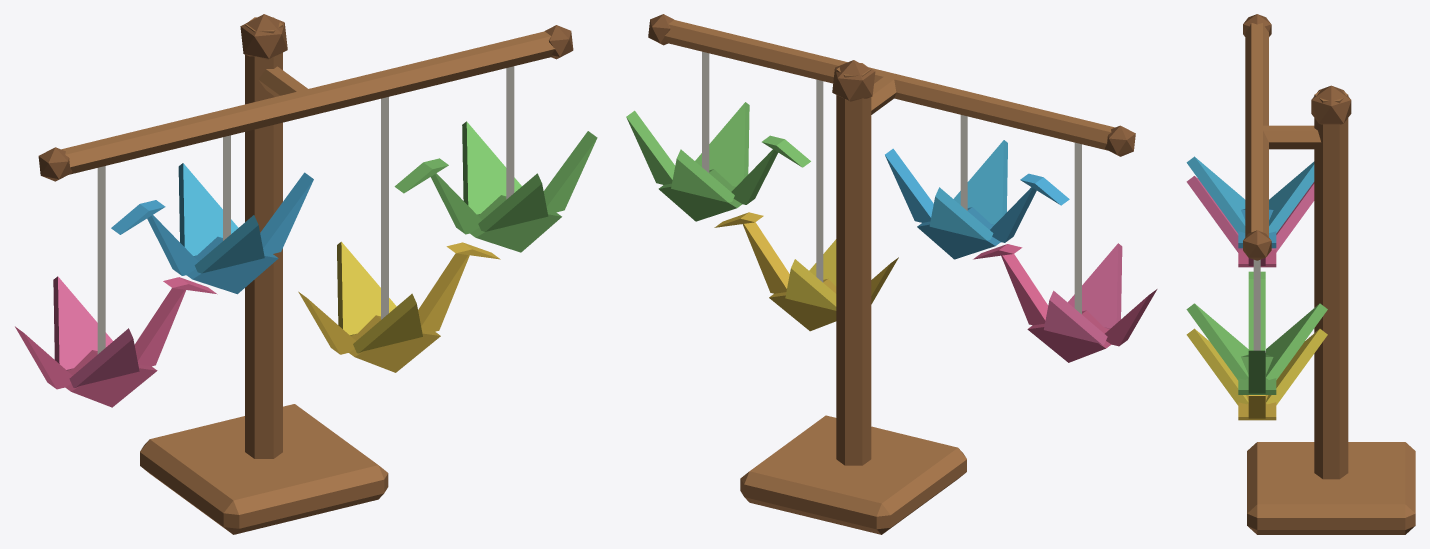
The model's file is habitat_prop_origami.fbx.
3 renders of one model, left to right at view 1: azimuth 30°, elevation 25°; view 2: azimuth 150°, elevation 25°; view 3: azimuth 270°, elevation 25°, orthographic. The views are drawn at different scales.
Parts seen in each view (by area): view 1: habitat_prop_origami; view 2: habitat_prop_origami; view 3: habitat_prop_origami.
Part boxes in pixels (x1,y1,x2,y2): habitat_prop_origami: [15, 14, 597, 534]; habitat_prop_origami: [626, 14, 1157, 534]; habitat_prop_origami: [1186, 14, 1415, 534].
Size of the model in its own units: 1.74 by 1.37 by 0.6802.
